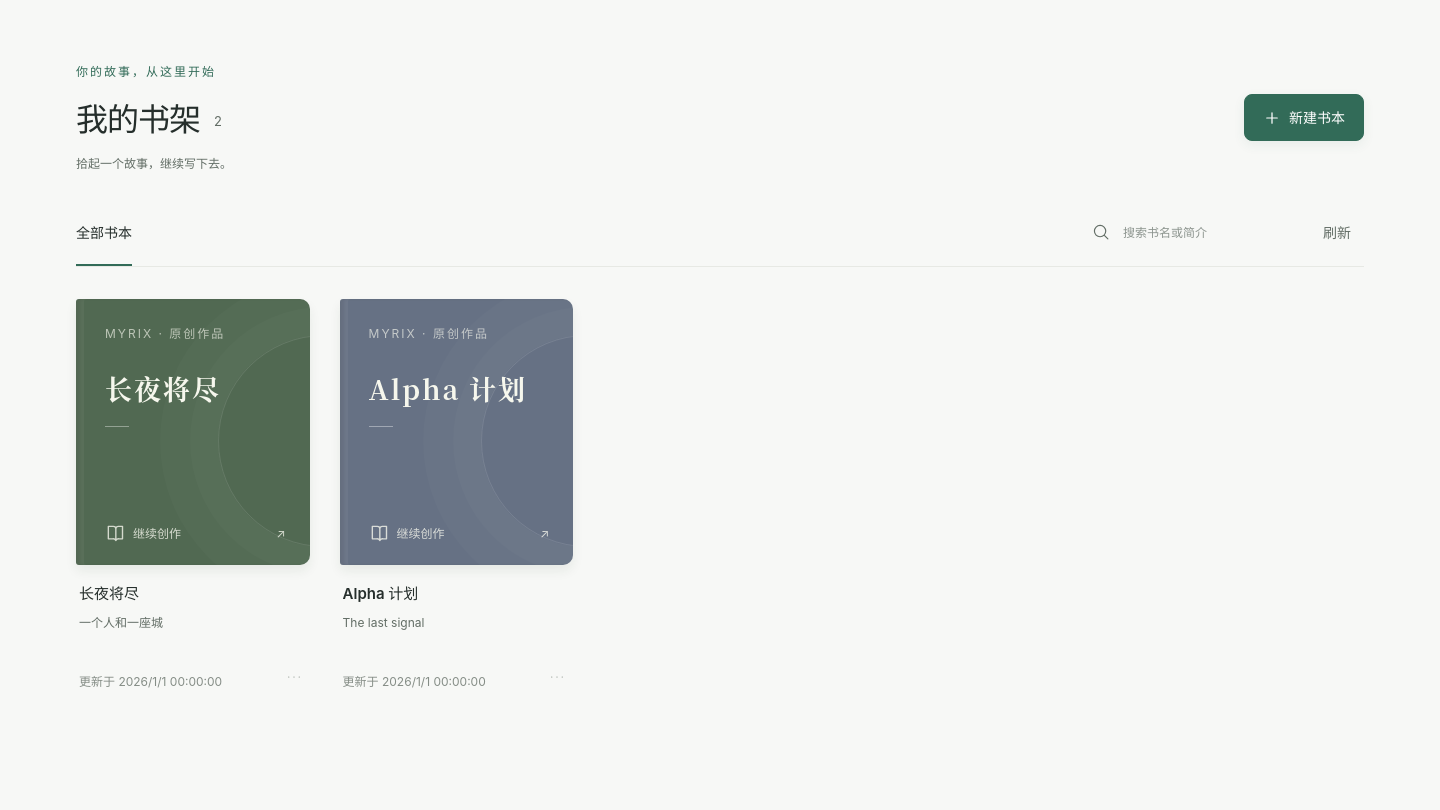
Test: WorkListPanel 搜索 › 按书名或简介过滤（忽略大小写与首尾空白），无匹配给出提示
Type " alpha " into the field named "搜索书本" at (1208, 233), box [1118,218,1298,248]
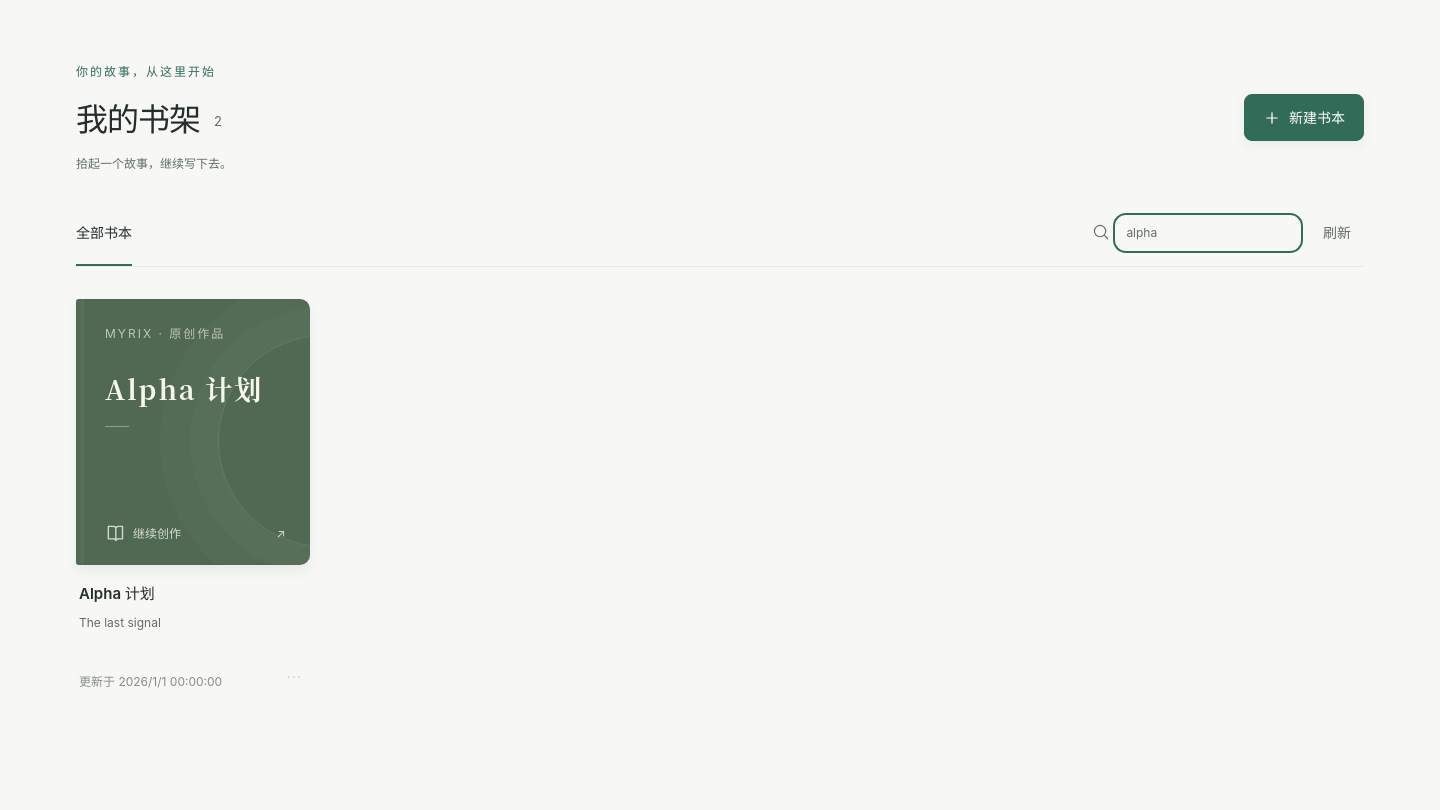
Expected: the heading "Alpha 计划" is shown, [79,584,155,604]
Result: the button "长夜将尽" is gone
Replace the text in the field named "搜索书本" with "一座城" at (1208, 233), box [1118,218,1298,248]
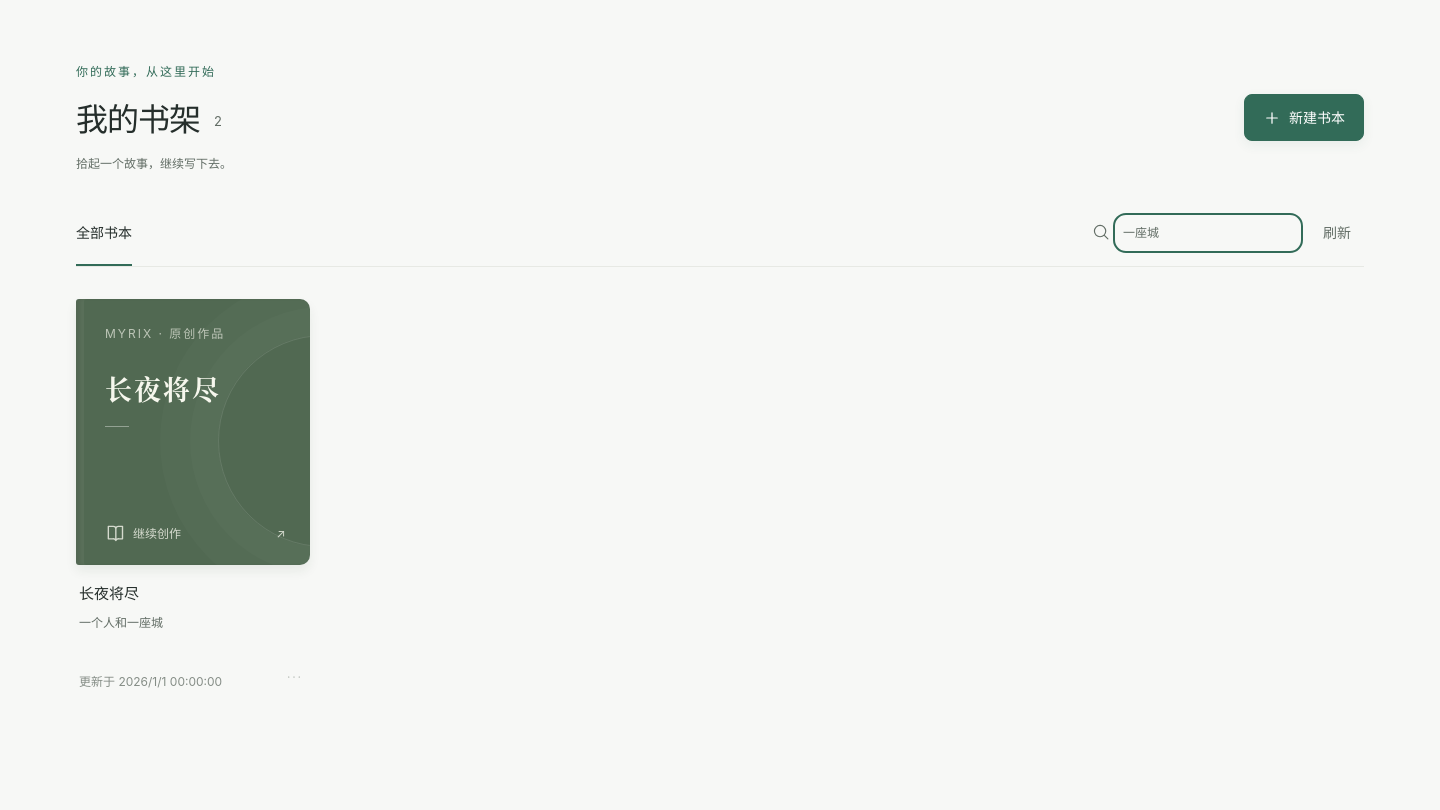
Expected: the button "Alpha 计划" is not shown
Result: the heading "长夜将尽" is shown at [79,584,139,604]
Replace the text in the field named "搜索书本" with "不存在的书" at (1208, 233), box [1118,218,1298,248]
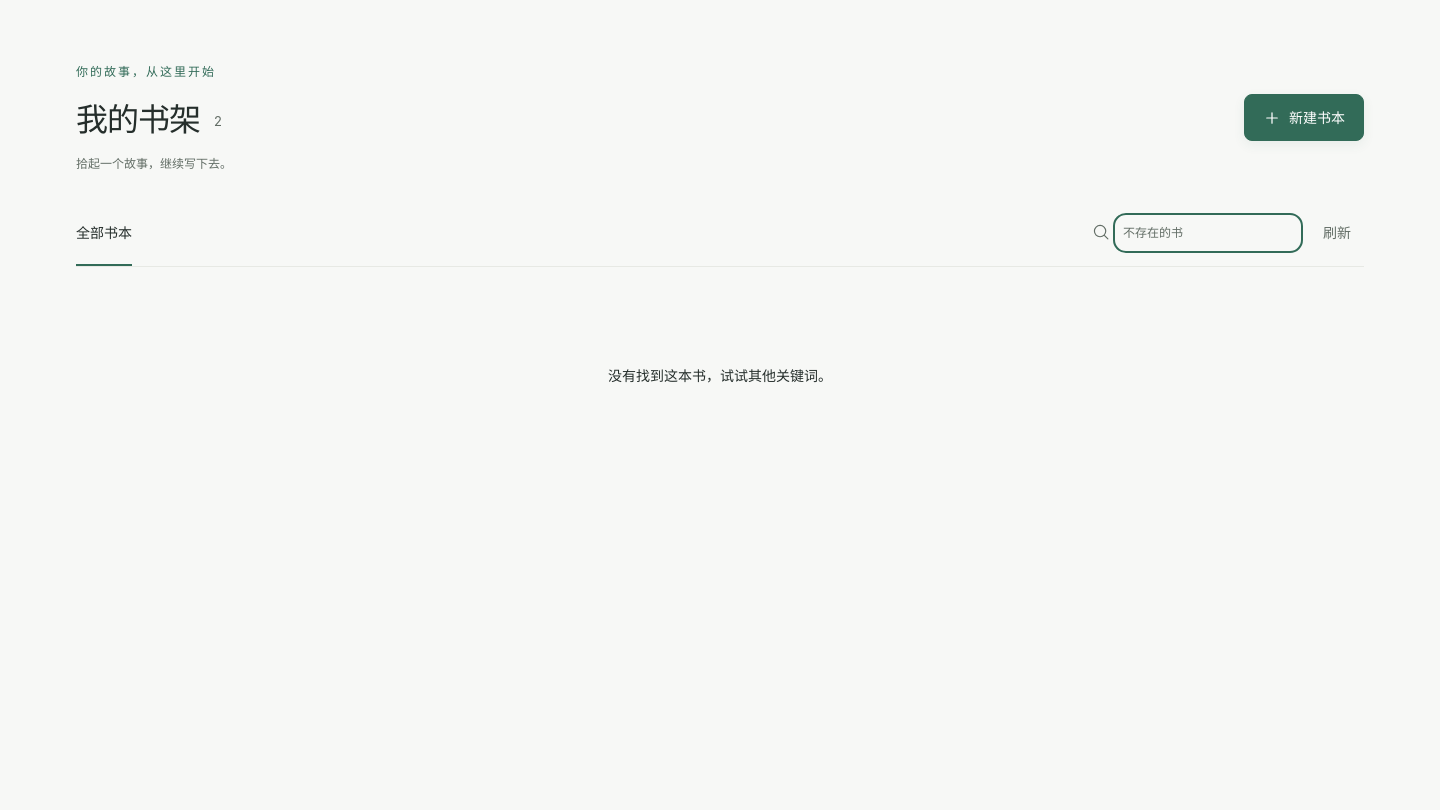
Result: the text "没有找到这本书，试试其他关键词。" is shown at [608,368,832,384]
Result: the button labelled "打开书本：长夜将尽" is gone
